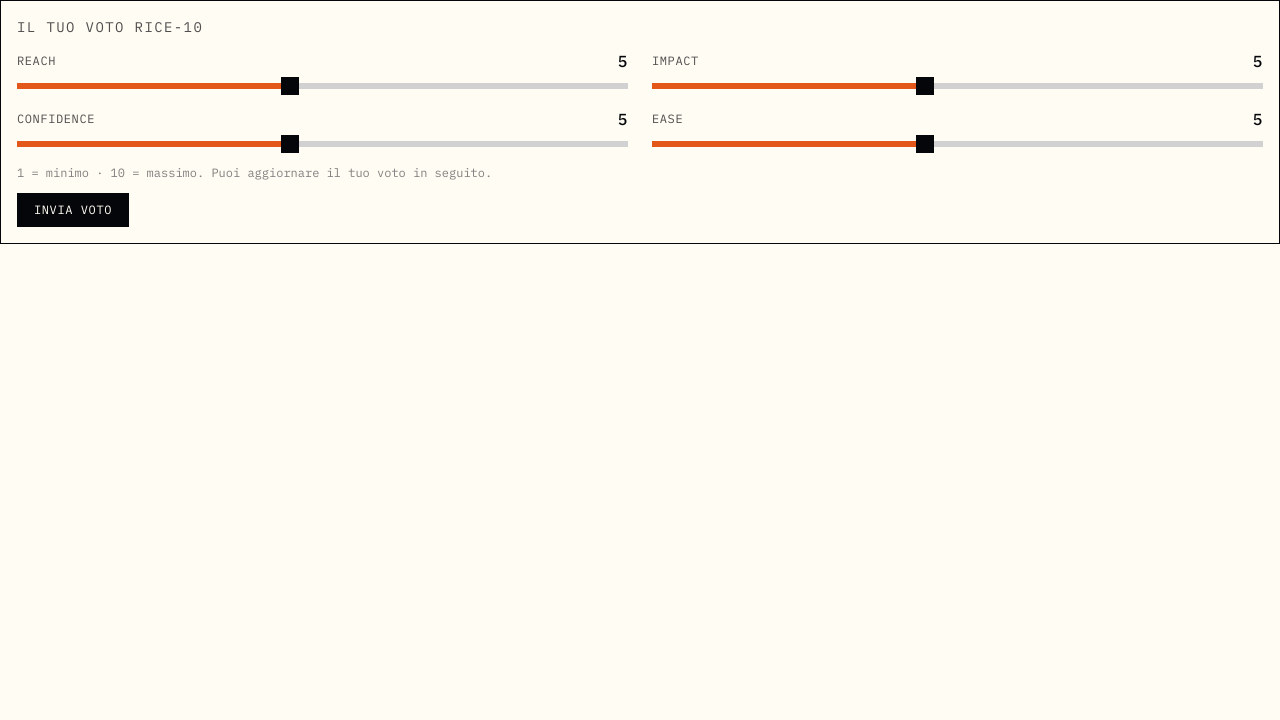
Scenario: RiceVoteForm › opens the confirm dialog before voting a card that is not in valutazione (#9d)
The width and height of the screenshot is (1280, 720).
Click the button "Invia voto" at (73, 210), box x1=17 y1=193 x2=129 y2=227
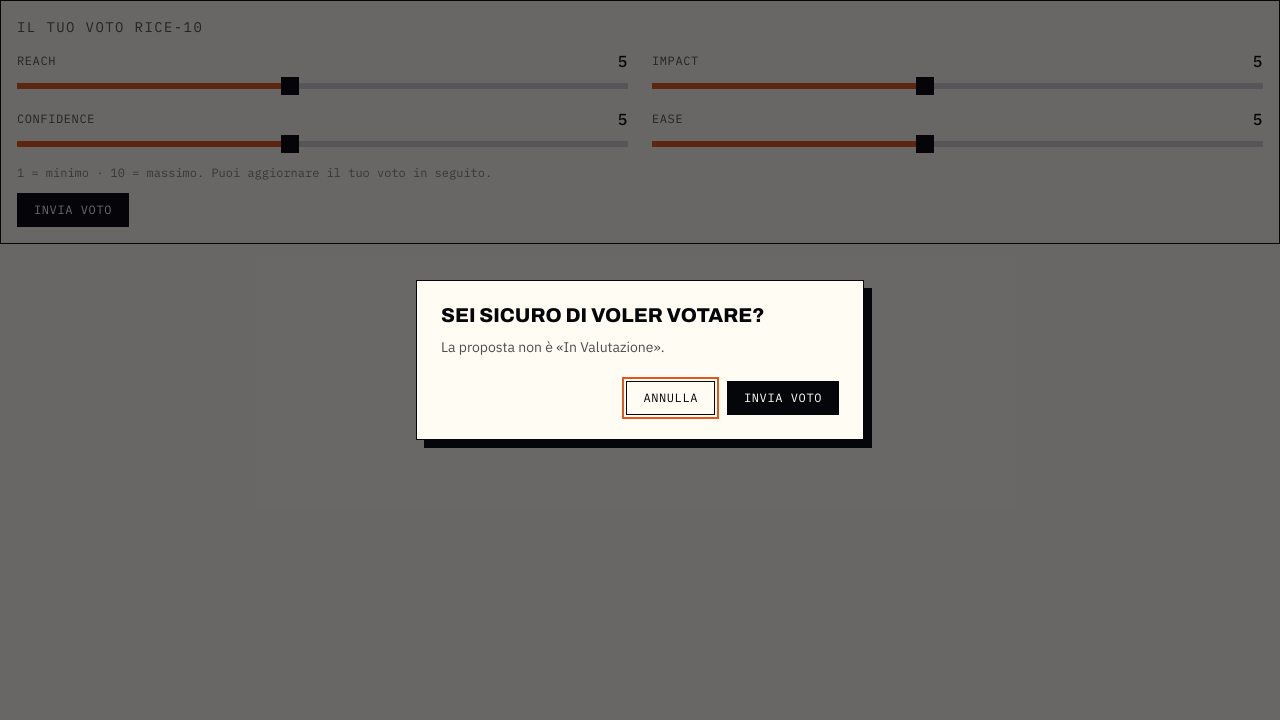
Expected: the heading "Sei sicuro di voler votare?" is shown, x1=441 y1=304 x2=764 y2=326
